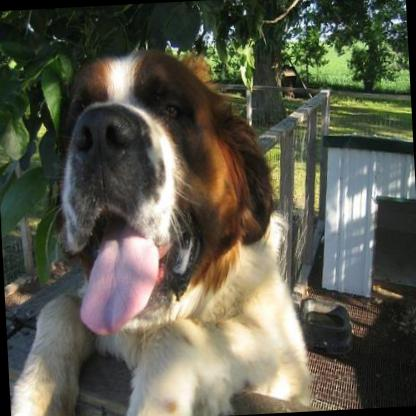Saint_Bernard: (0, 37, 311, 416)
